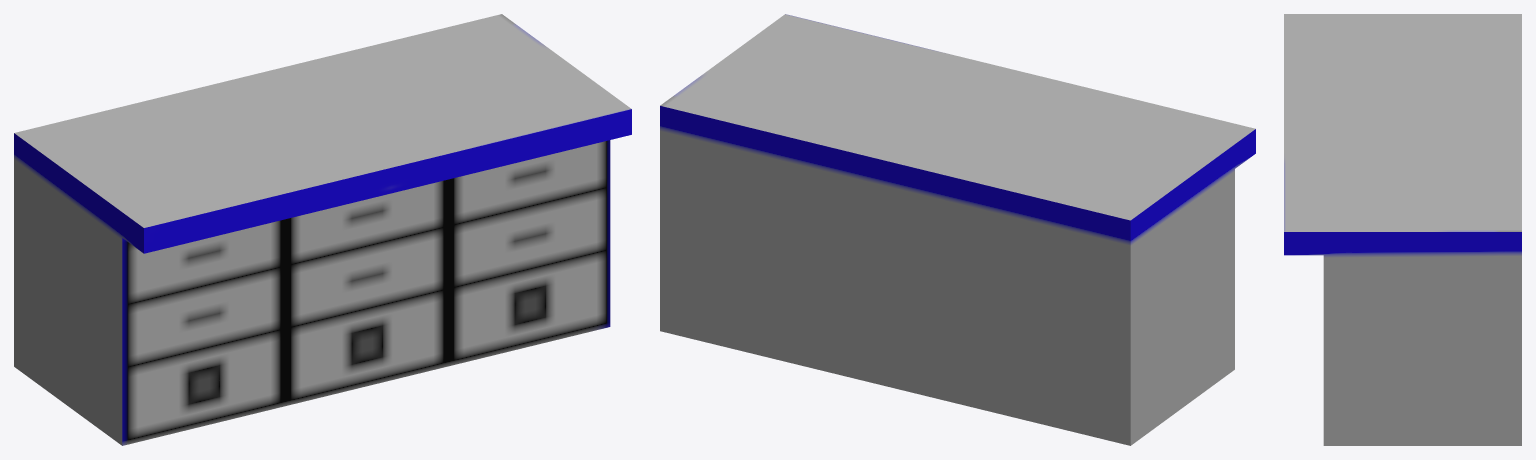
File: Cabinet.fbx
3 renders of one model, left to right at view 1: azimuth 30°, elevation 25°; view 2: azimuth 150°, elevation 25°; view 3: azimuth 270°, elevation 25°, orthographic. The views are drawn at different scales.
Visible parts, largest first — view 1: Cabinet; view 2: Cabinet; view 3: Cabinet.
Part boxes in pixels (box(x1,y1,x2,y2)): Cabinet: box(14, 14, 631, 445); Cabinet: box(660, 14, 1255, 445); Cabinet: box(1284, 14, 1521, 445).
Bounding box in the file's own units: 218 × 100 × 101.
Materials: 1 (1 with a texture image).
